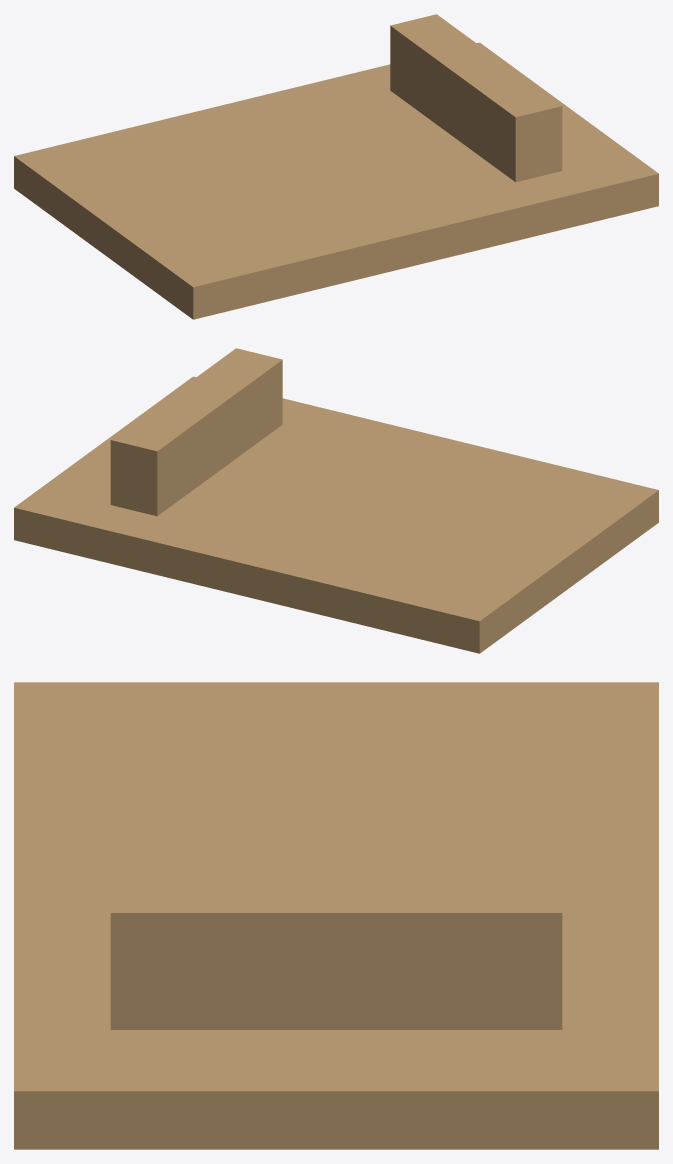
File: prop-catch-plate-blank.fbx
3 views of the same model, one above another, from view 1: azimuth 30°, elevation 25°; view 2: azimuth 150°, elevation 25°; view 3: azimuth 270°, elevation 25° (orthographic). The views are drawn at different scales.
Parts seen in each view (by area): view 1: prop-catch-plate-blank; view 2: prop-catch-plate-blank; view 3: prop-catch-plate-blank.
Boxes of the visible parts, x1,y1,x2,y2 form: prop-catch-plate-blank: (14, 14, 658, 319); prop-catch-plate-blank: (14, 348, 658, 653); prop-catch-plate-blank: (14, 682, 658, 1149).
Bounding box in the file's own units: 3 × 0.6 × 2.
